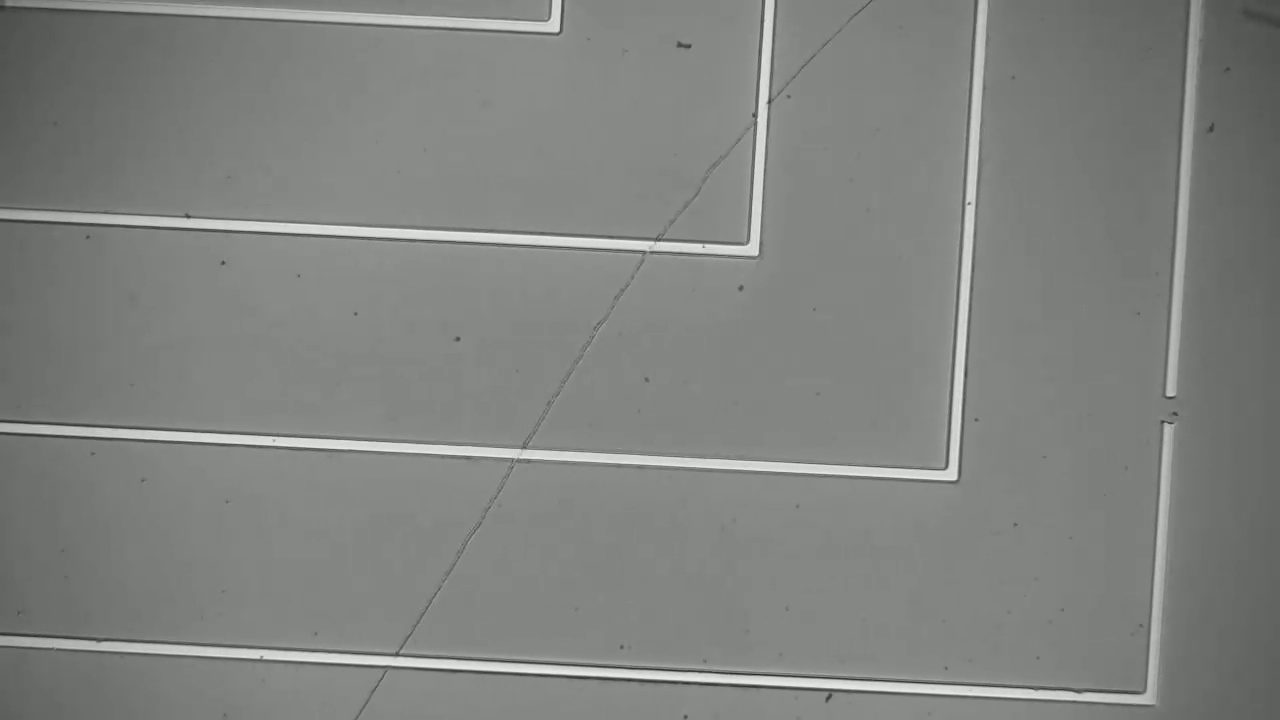open: (1152, 376, 1191, 440)
scratch: (346, 2, 879, 718)
